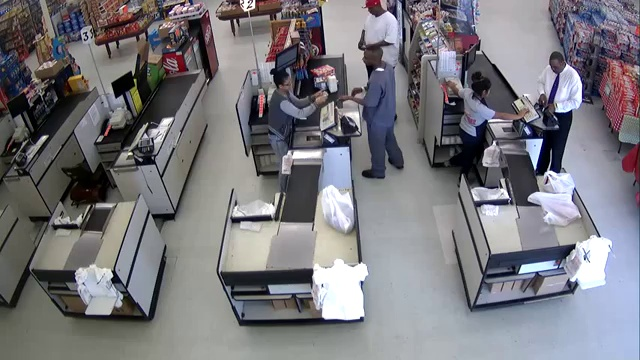face: (362, 48, 379, 67), (280, 75, 293, 91), (550, 60, 561, 75), (367, 4, 379, 16)
